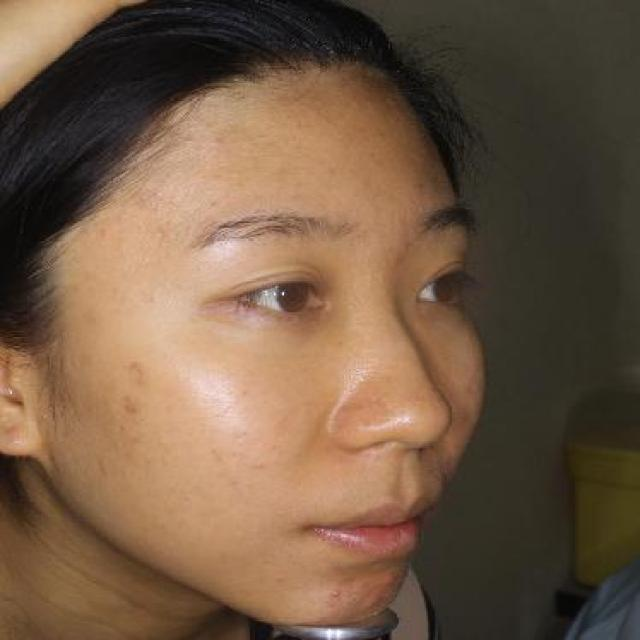dark spot: (116, 392, 146, 417), (125, 357, 151, 377)
pustules: (330, 586, 346, 599)
